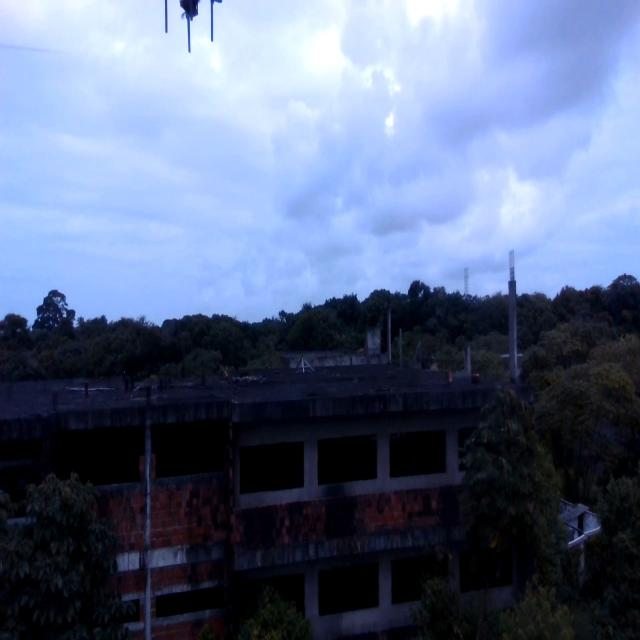-uav-: (159, 0, 222, 64)
